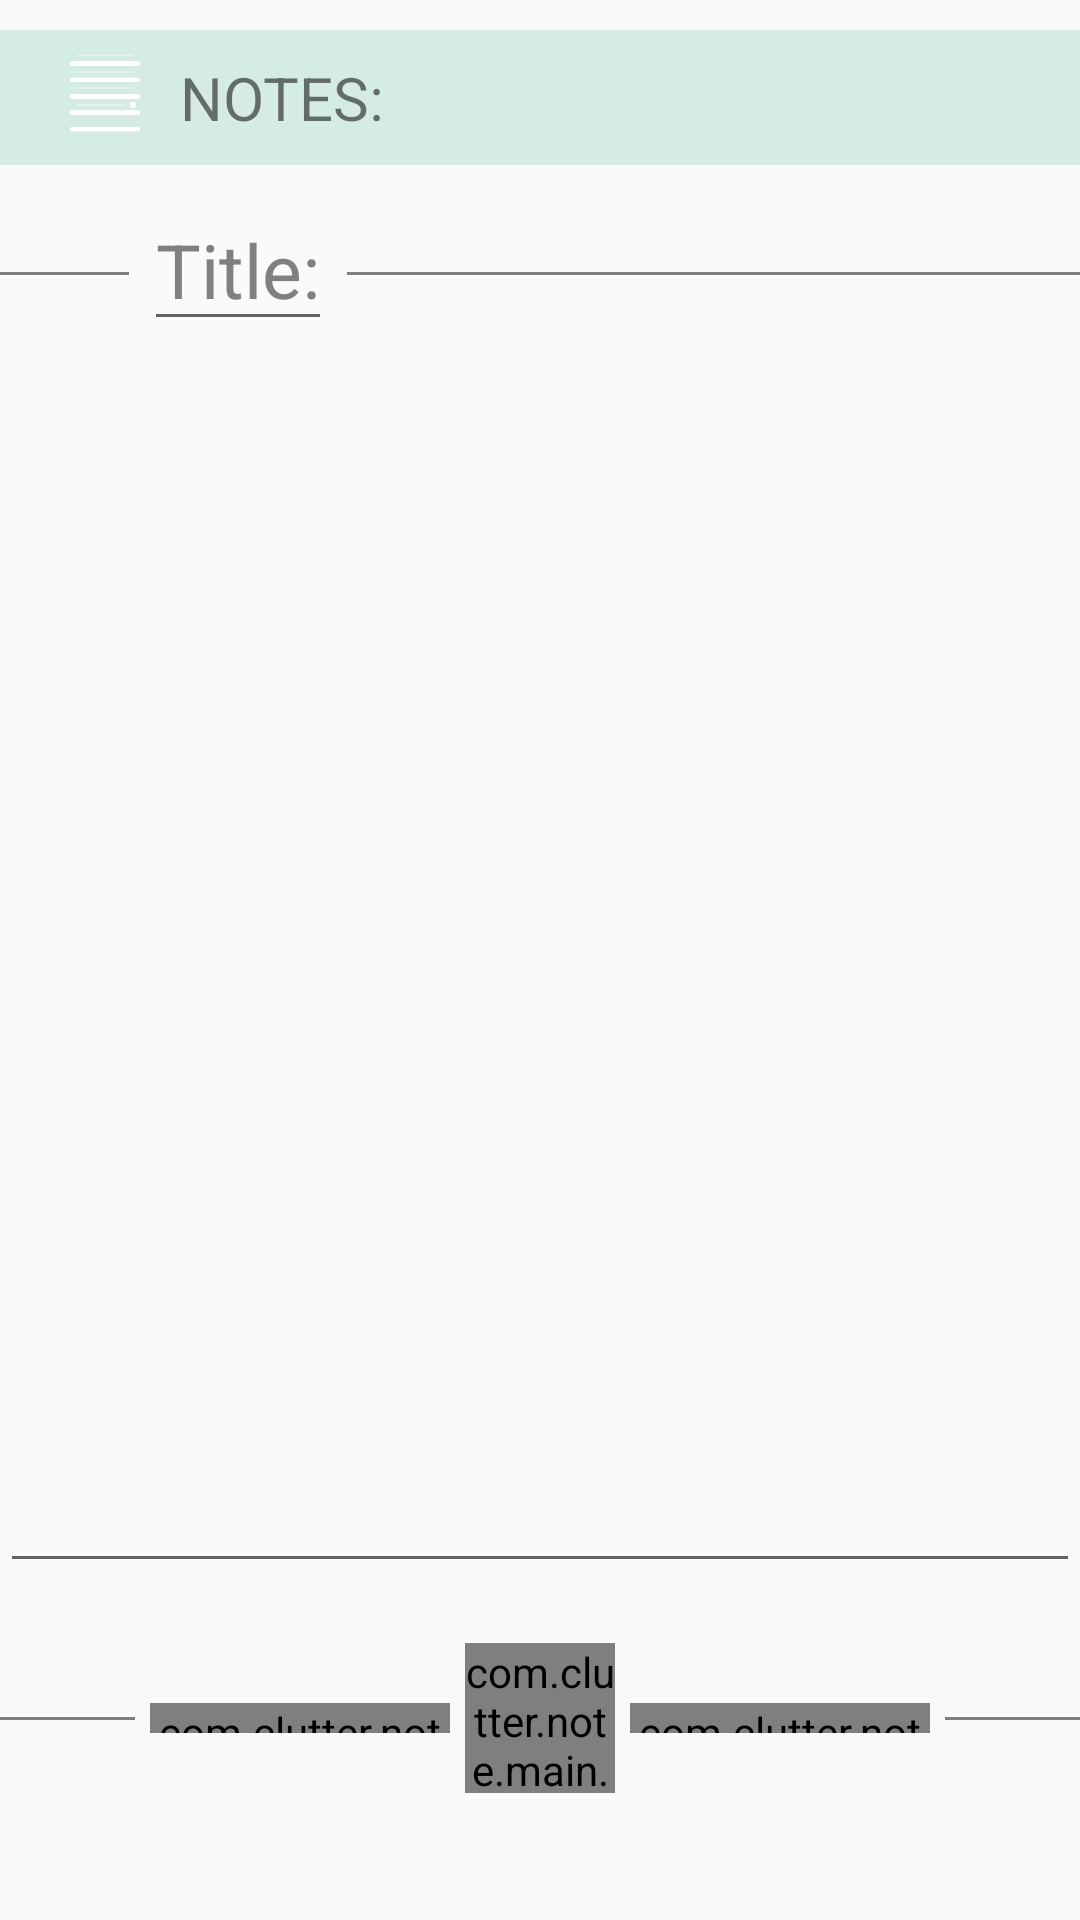

Where to tap for icons on this 1080*1920 app screen, as (x=x, y=y):
note mono: (x=105, y=96)
